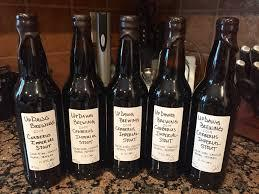Glass bottle: (10, 6, 247, 190)
